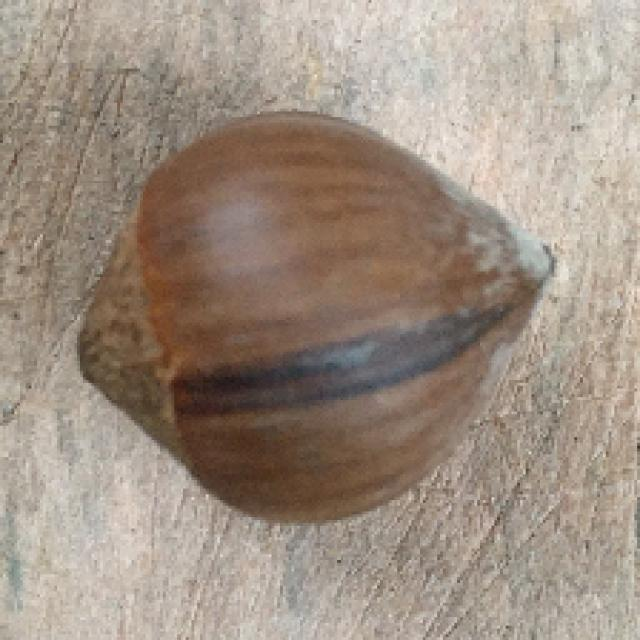damagedHazelnut: (70, 106, 560, 539)
